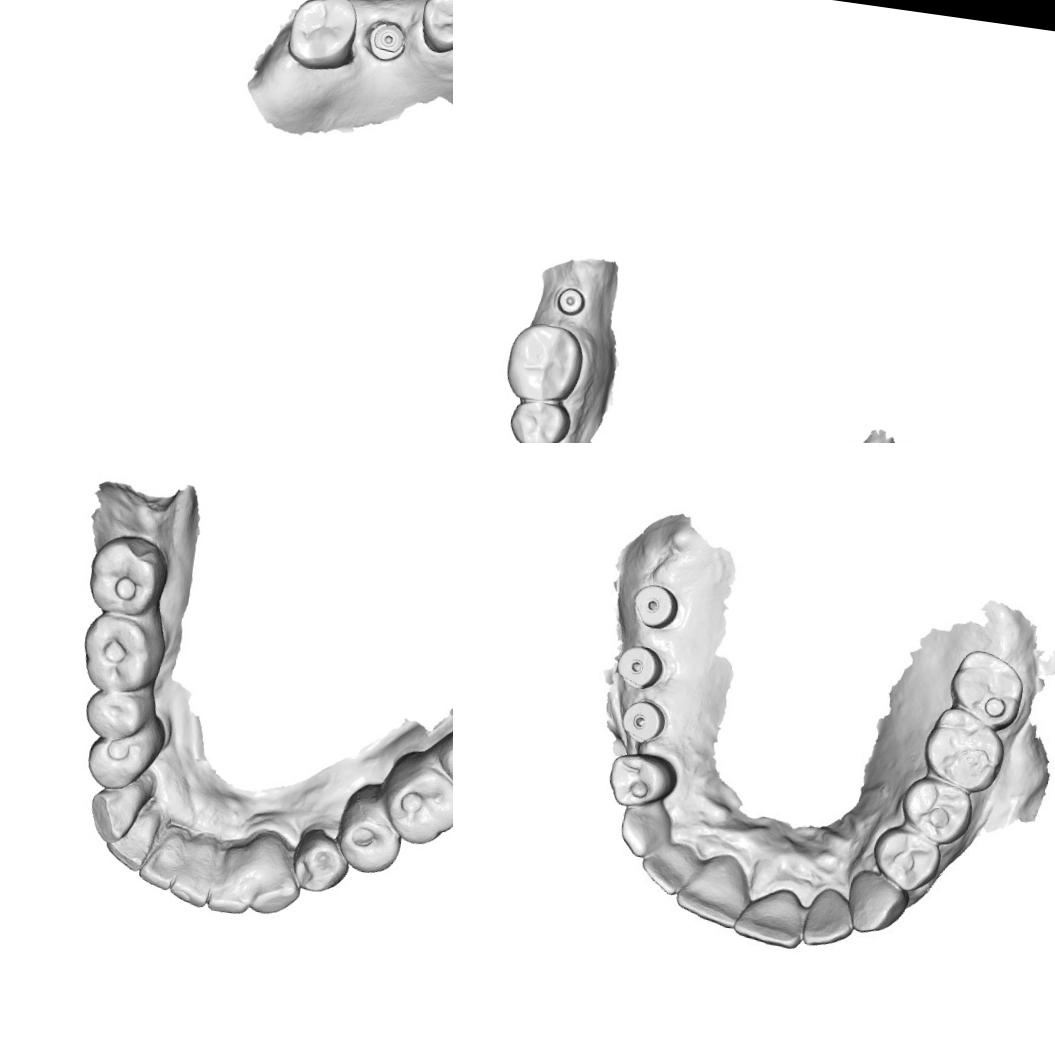canine: (241, 836, 307, 921), (844, 868, 907, 937), (84, 780, 146, 849), (617, 799, 677, 858)
implant: (628, 576, 684, 638), (613, 694, 672, 752), (612, 642, 670, 696), (364, 15, 410, 62), (550, 283, 596, 329)
incisor: (678, 853, 748, 923), (734, 886, 804, 952), (101, 804, 161, 874), (165, 841, 220, 911), (801, 882, 858, 948), (133, 830, 188, 896), (203, 849, 256, 916), (641, 840, 698, 894)
molar: (83, 529, 173, 620), (374, 749, 453, 851), (76, 609, 163, 699), (921, 700, 1006, 792), (502, 318, 588, 408), (948, 647, 1027, 726), (281, 0, 362, 75), (428, 704, 453, 805)
premolar: (332, 793, 408, 878), (80, 726, 158, 794), (288, 822, 355, 898), (871, 822, 942, 892), (903, 775, 973, 844), (80, 680, 154, 744), (606, 749, 672, 808), (505, 394, 574, 443), (415, 0, 453, 58)
